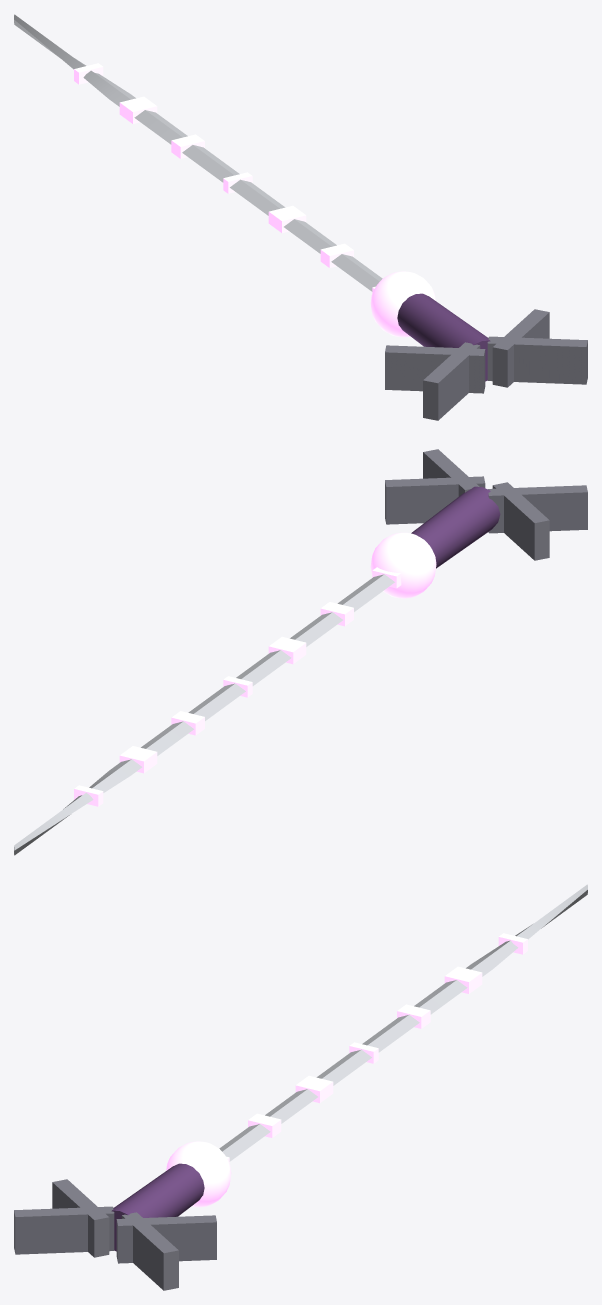
Rendered from estoque_compilador.glb.
The picture shows the model from 3 angles, top to bottom: view 1: azimuth 30°, elevation 25°; view 2: azimuth 150°, elevation 25°; view 3: azimuth 330°, elevation 25°; orthographic projection.
Visible parts, largest first — view 1: estoque_compilador; view 2: estoque_compilador; view 3: estoque_compilador.
Boxes of the visible parts, box(x1,y1,x2,y2) form: estoque_compilador: box(14, 14, 587, 420); estoque_compilador: box(14, 449, 587, 855); estoque_compilador: box(14, 884, 587, 1290).
Bounding box in the file's own units: 0.2298 × 0.08 × 1.2.
